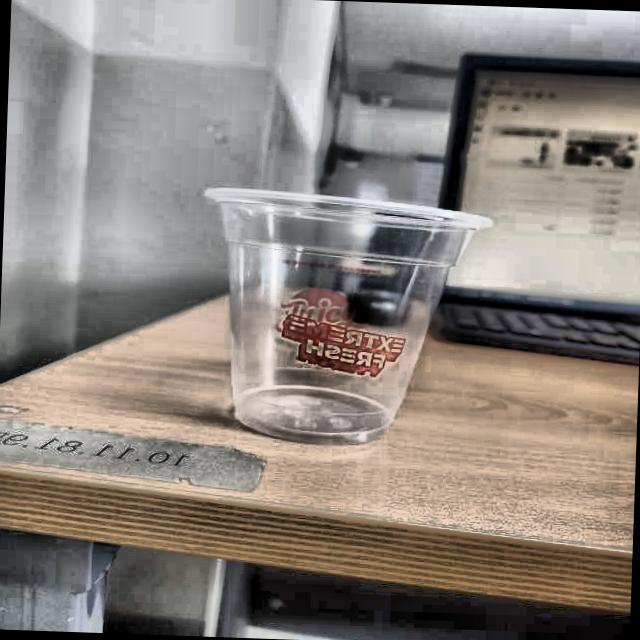plastic cup: (195, 184, 494, 451)
